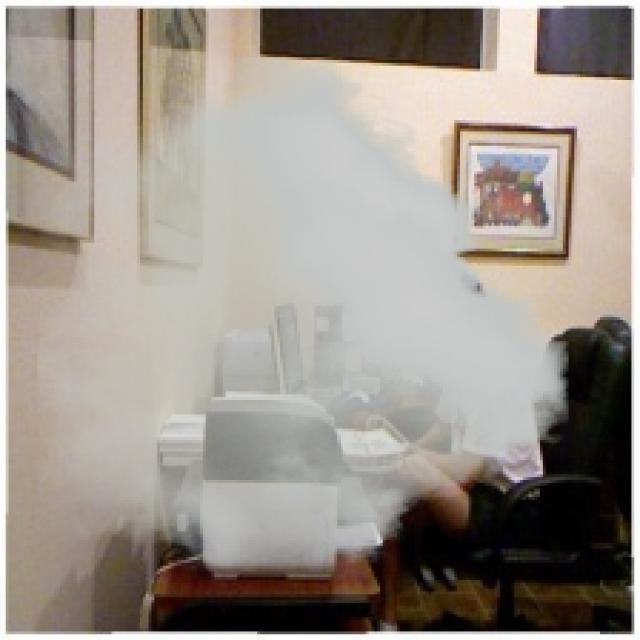Smoke: (37, 57, 569, 572)
